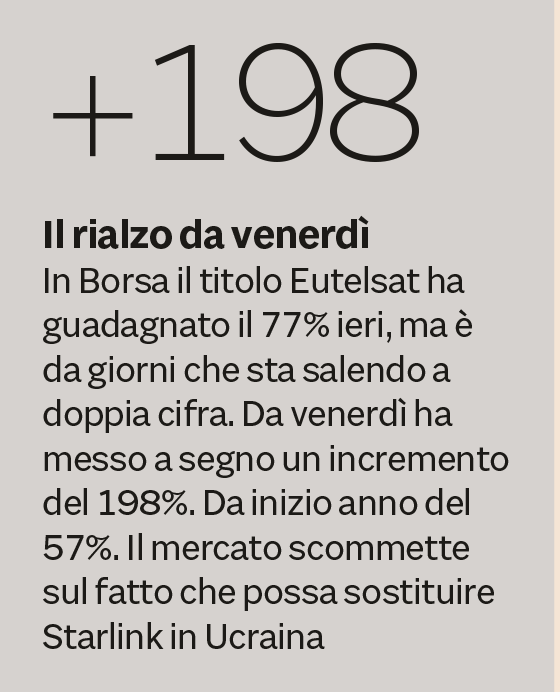scheda-numerone-1: (7, 3, 538, 674)
